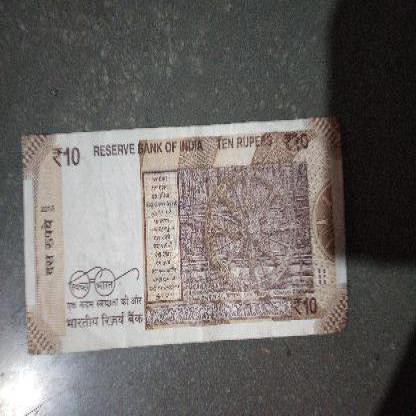New10Back: (20, 121, 338, 338)
